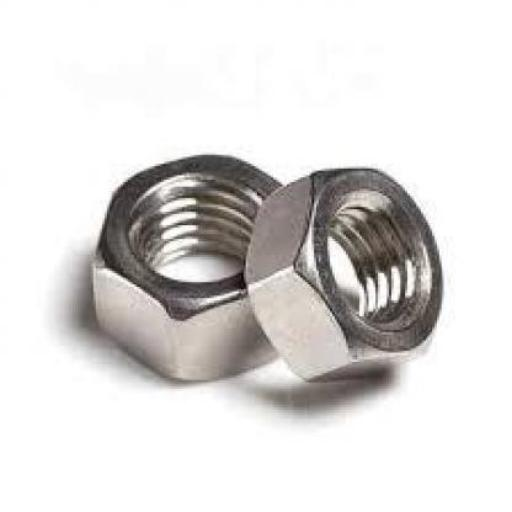nut: (92, 152, 288, 382), (244, 165, 446, 381)
